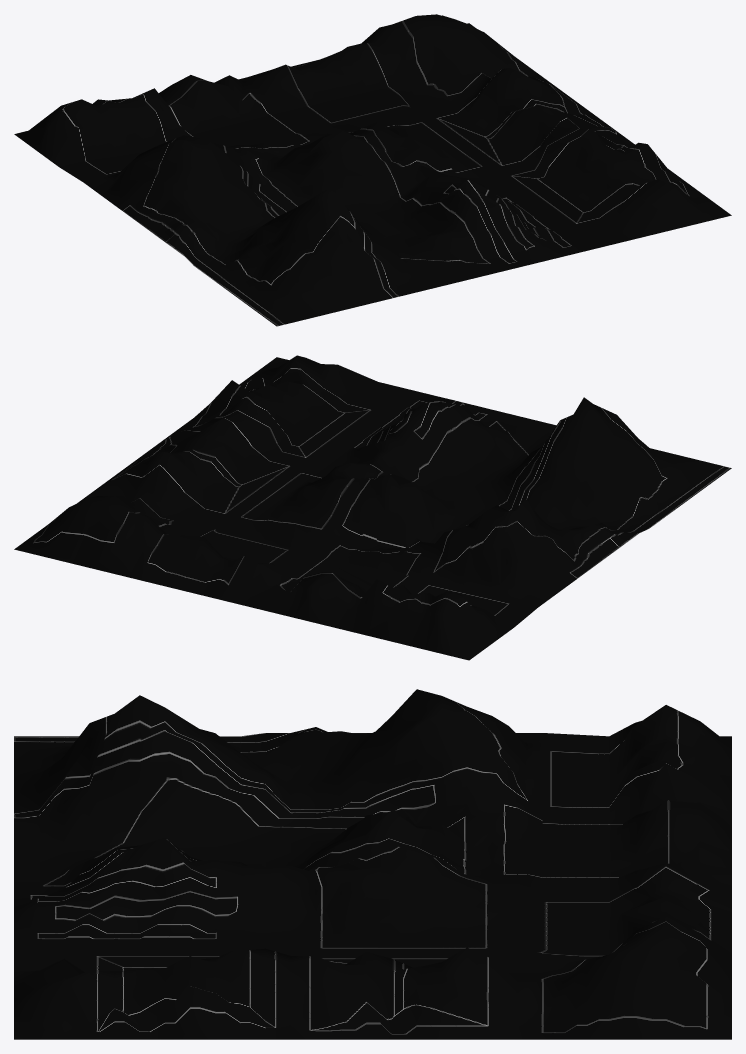
Rendered from Planner.fbx.
3 renders of one model, top to bottom at view 1: azimuth 30°, elevation 25°; view 2: azimuth 150°, elevation 25°; view 3: azimuth 270°, elevation 25°, orthographic. The views are drawn at different scales.
Visible parts, largest first — view 1: pPlane1; view 2: pPlane1; view 3: pPlane1.
Part boxes in pixels (box(x1,y1,x2,y2)): pPlane1: box(14, 14, 731, 326); pPlane1: box(14, 355, 731, 660); pPlane1: box(14, 689, 731, 1039).
Size of the model in its own units: 281 by 47.18 by 281.
